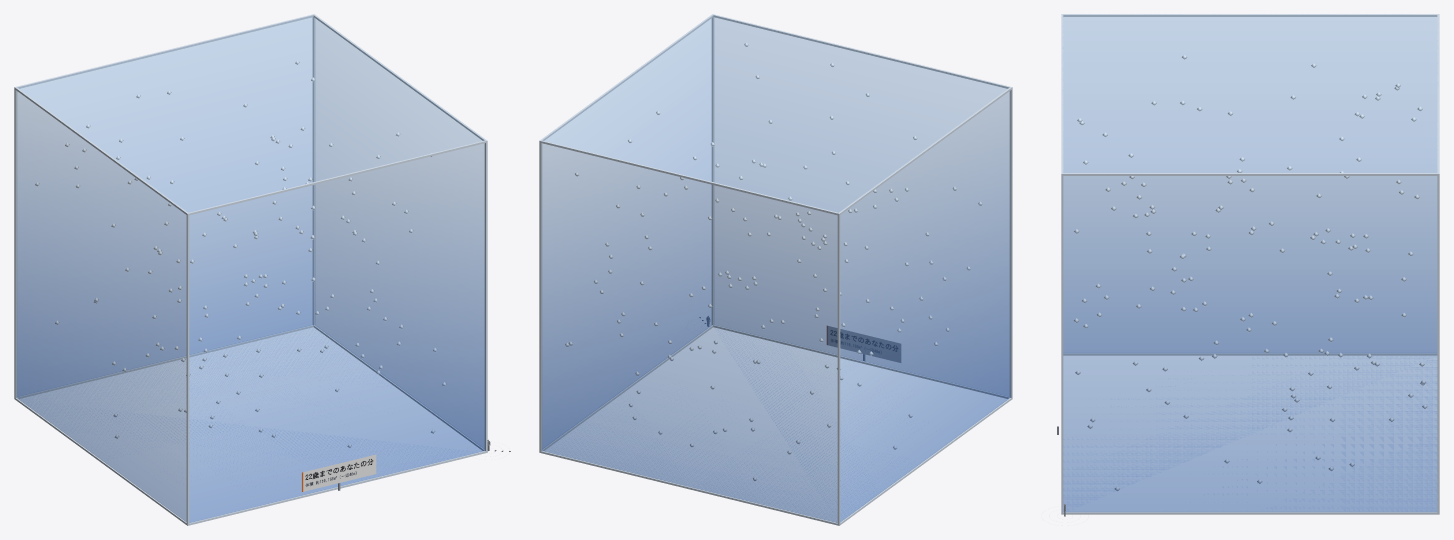
File: cube_life_22.glb
3 views of the same model, side by side, from view 1: azimuth 30°, elevation 25°; view 2: azimuth 150°, elevation 25°; view 3: azimuth 270°, elevation 25° (orthographic). The views are drawn at different scales.
Parts seen in each view (by area): view 1: co2, edge, dots, label; view 2: co2, edge, dots, label; view 3: co2, edge, dots.
Boxes of the visible parts, <box> form: co2: <box>16,15,484,522</box>; edge: <box>14,14,487,525</box>; dots: <box>35,60,446,447</box>; label: <box>301,454,376,491</box>; co2: <box>542,15,1010,522</box>; edge: <box>539,14,1012,525</box>; dots: <box>565,42,982,481</box>; label: <box>827,326,900,362</box>; co2: <box>1062,15,1437,511</box>; edge: <box>1061,14,1439,514</box>; dots: <box>1073,55,1427,491</box>.
Size of the model in its own units: 51.65 by 47.94 by 50.75.
8 materials, 3 textured.
